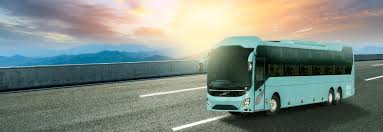bus: (205, 36, 355, 115)
